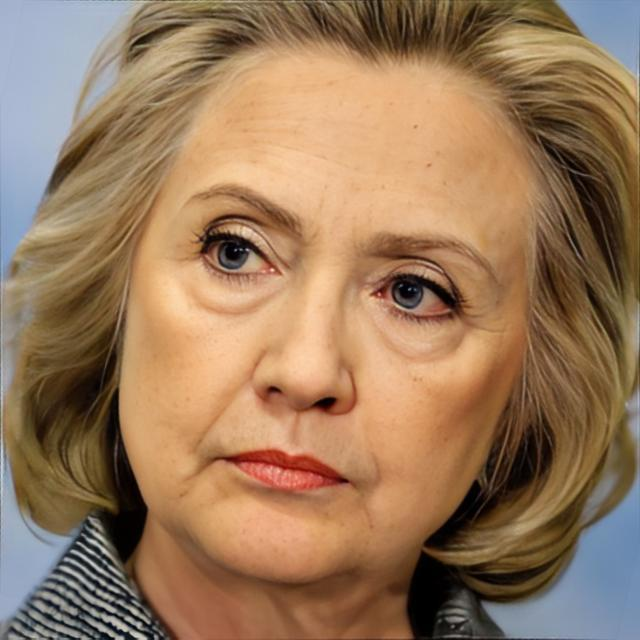neutral: (118, 39, 530, 588)
